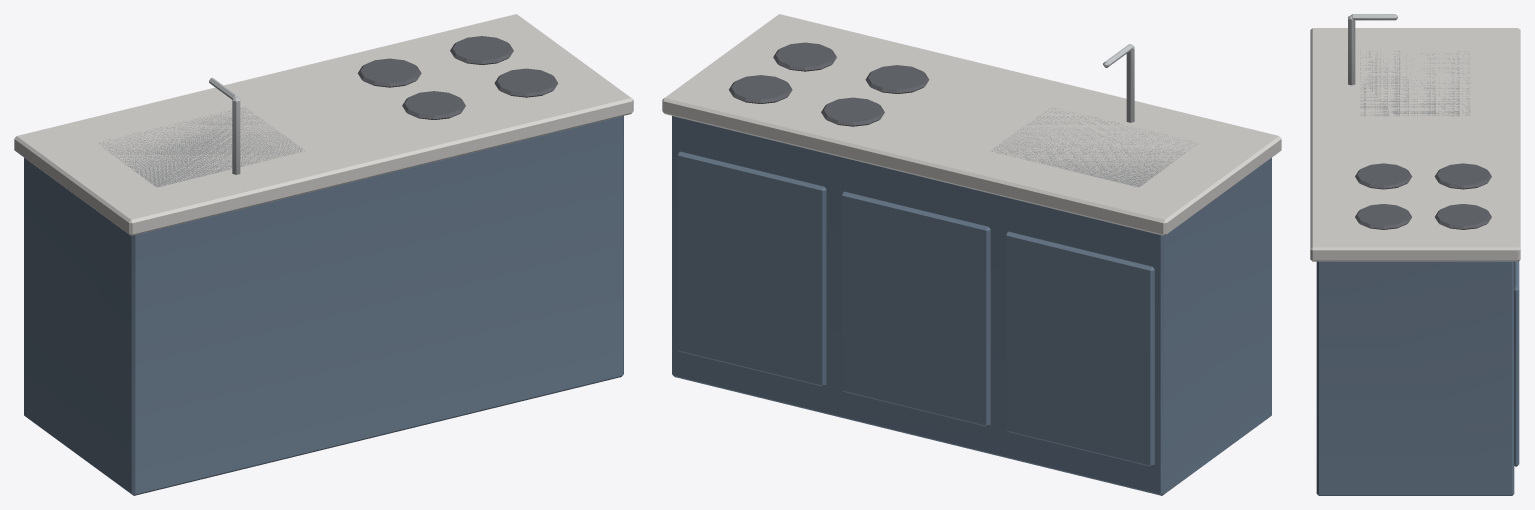
The model's file is furn_counter__navy.glb.
The picture shows the model from 3 angles, left to right: view 1: azimuth 30°, elevation 25°; view 2: azimuth 150°, elevation 25°; view 3: azimuth 270°, elevation 25°; orthographic projection. The views are drawn at different scales.
Size of the model in its own units: 1.64 by 1.11 by 0.66.
